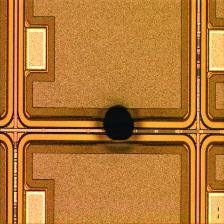PARTICLE: (89, 94, 149, 154)
